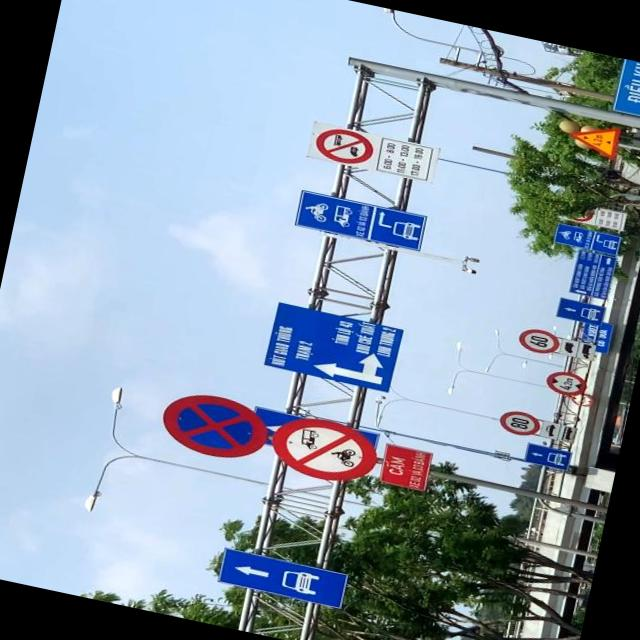P-104: (265, 409, 382, 488)
P-130: (156, 386, 269, 464)
